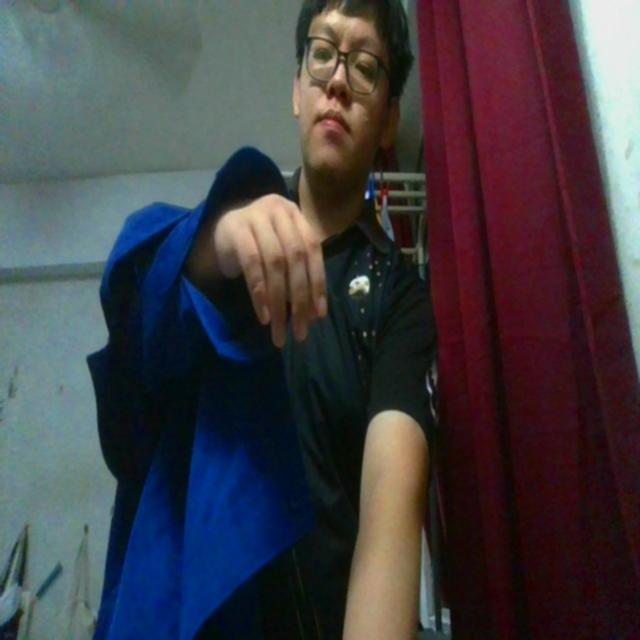person_without_labcoat: (90, 0, 435, 639)
